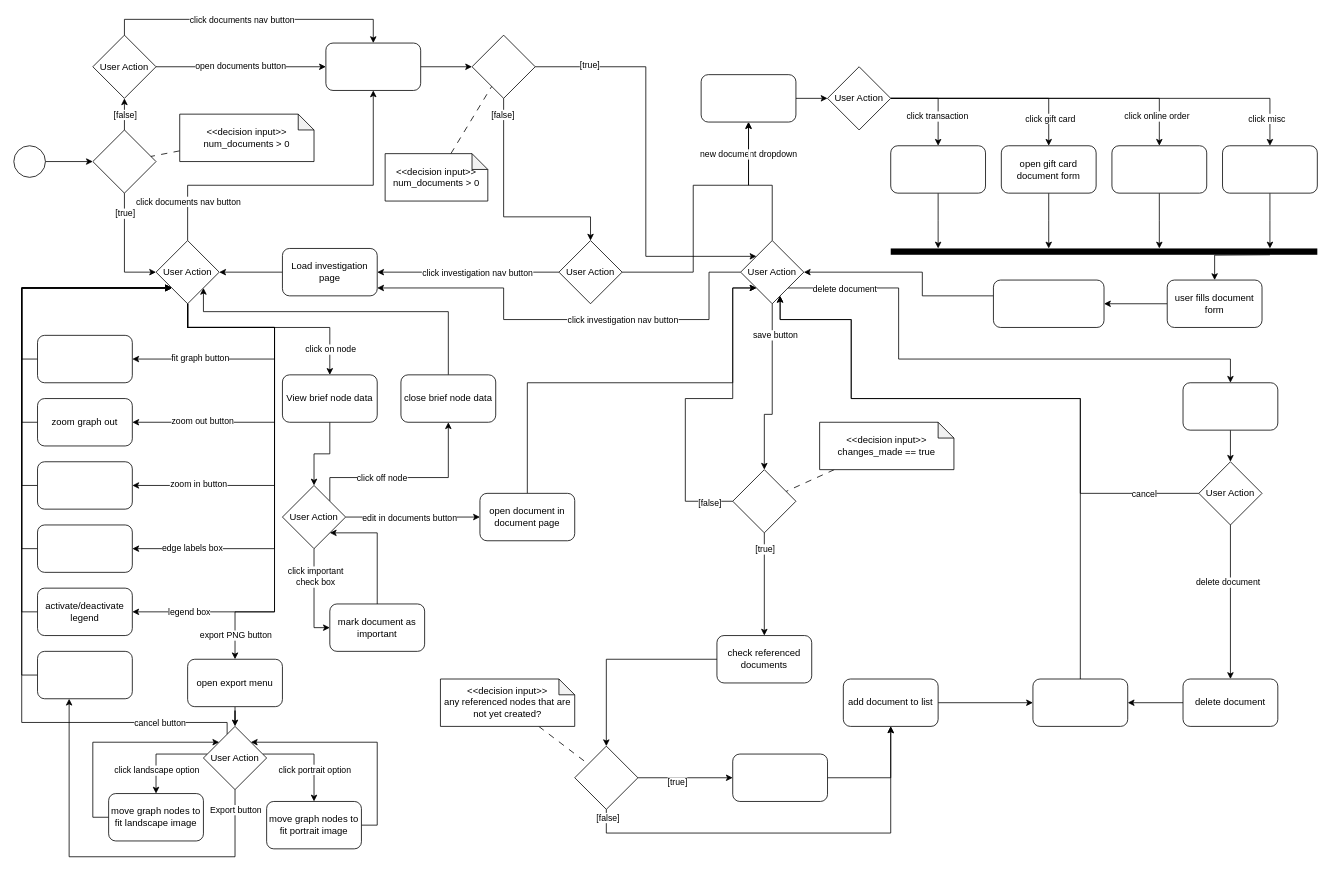
The diagram is 1331 pixels wide and 877 high, and some of its shapes have lost their labels. The centre of each missing label's shape, as x and y in pixels:
activate/deactivate edge labels: the point at 84,548
create incomplete node for all non existent nodes referenced: the point at 780,777
display referenced documents: the point at 1230,406
export image: the point at 84,675
field validation checks: the point at 1048,303
fit graph to screen: the point at 84,359
list document types: the point at 748,98
Load documents page: the point at 373,66
open misc document form: the point at 1269,169
open online order document form: the point at 1159,169
open transaction document form: the point at 938,169
update relationships for graph: the point at 1080,702
zoom graph in: the point at 84,485
